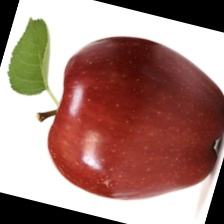apple: (31, 32, 167, 224)
